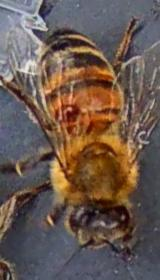varroa_mite: (44, 95, 90, 132)
